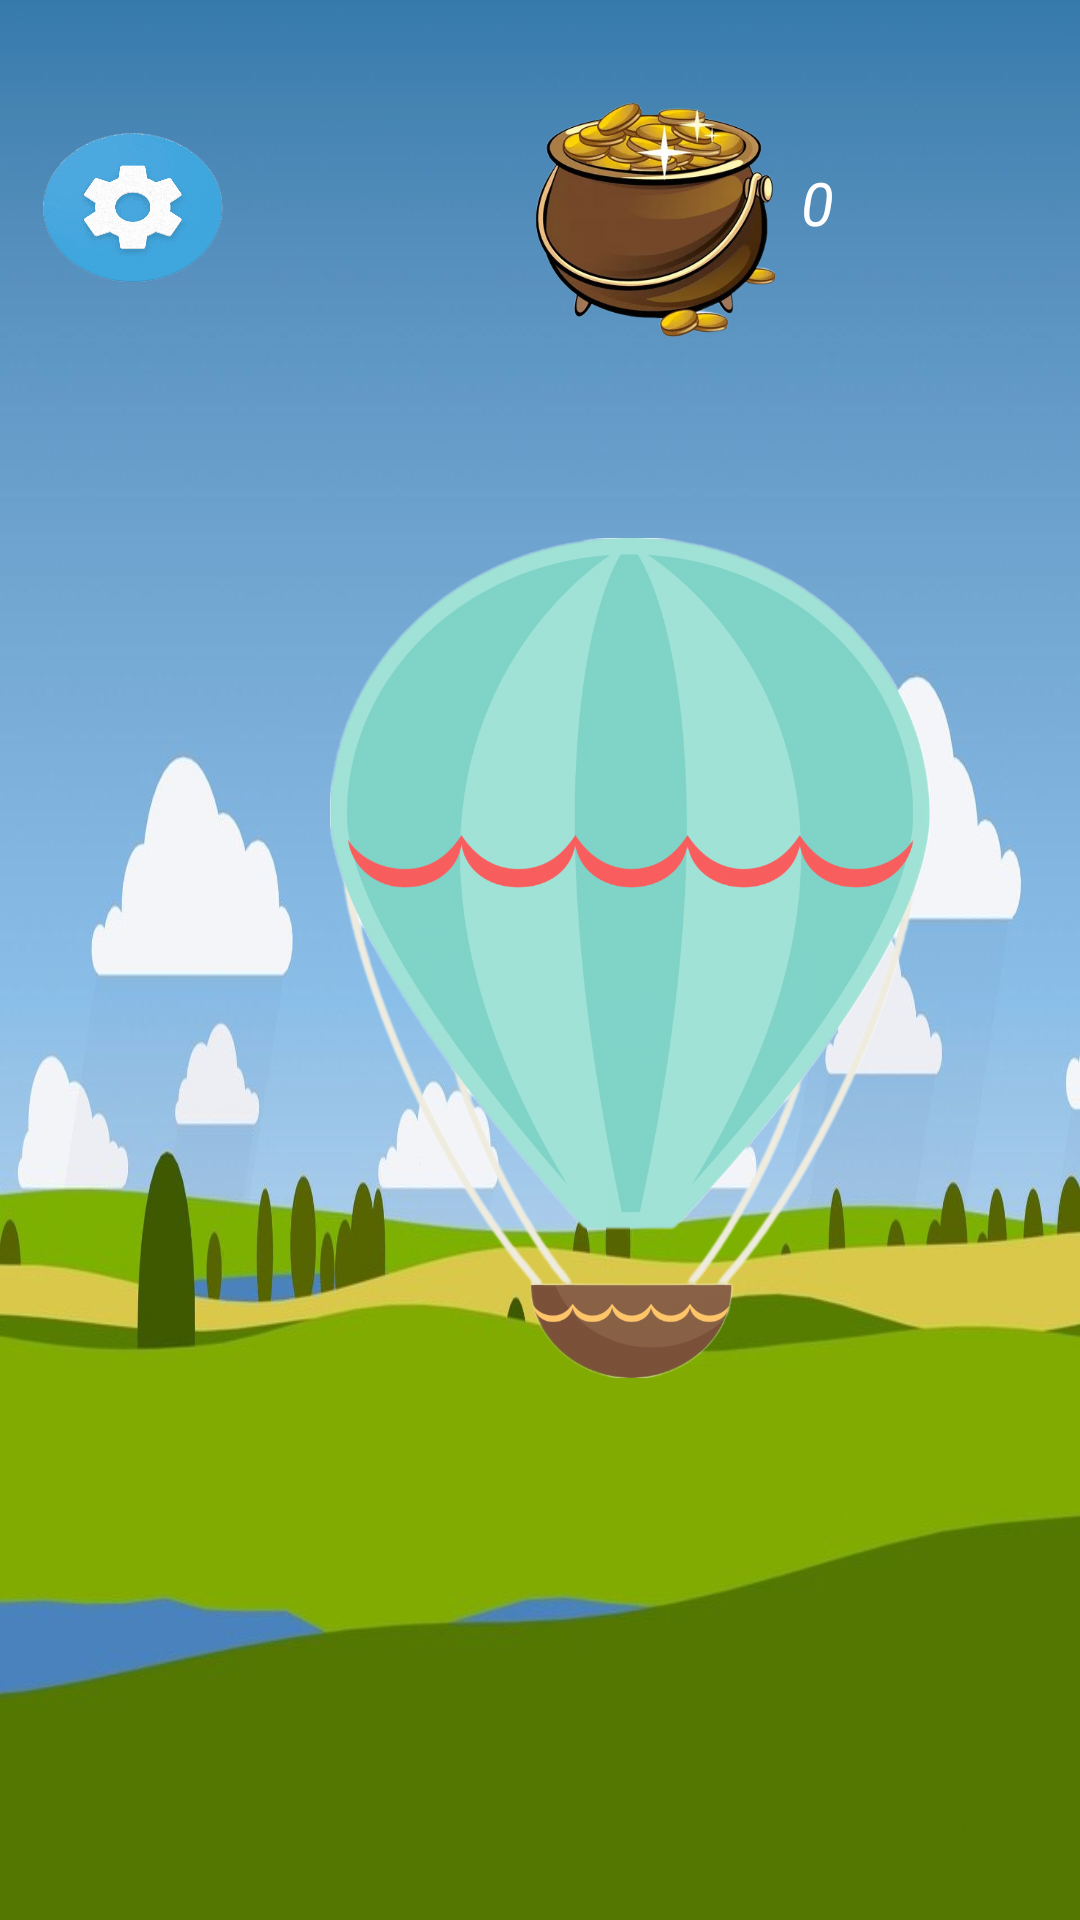

Point at icon controls on the screen. Image size 1080x1920, points as (x,y).
coins: (655,220)
gear wheel: (133,207)
